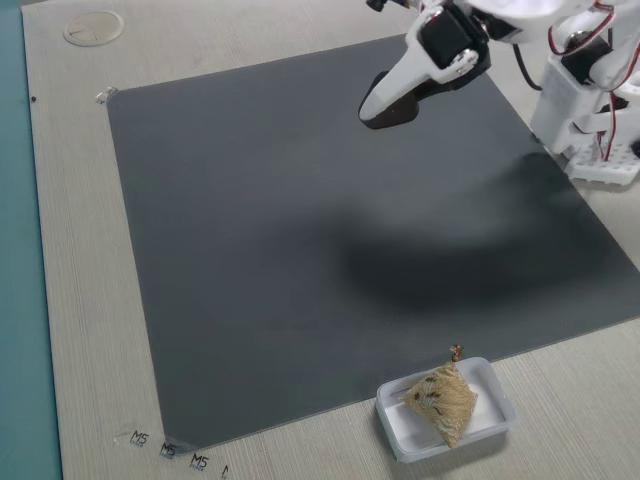objects: (334, 0, 480, 139)
